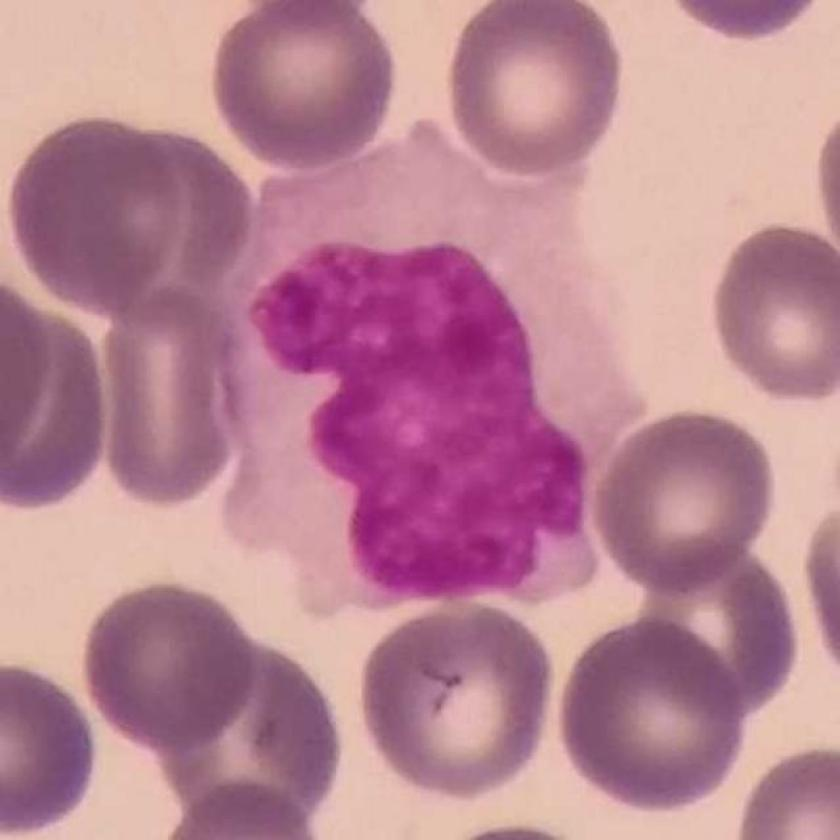monocyte: (202, 114, 660, 624)
